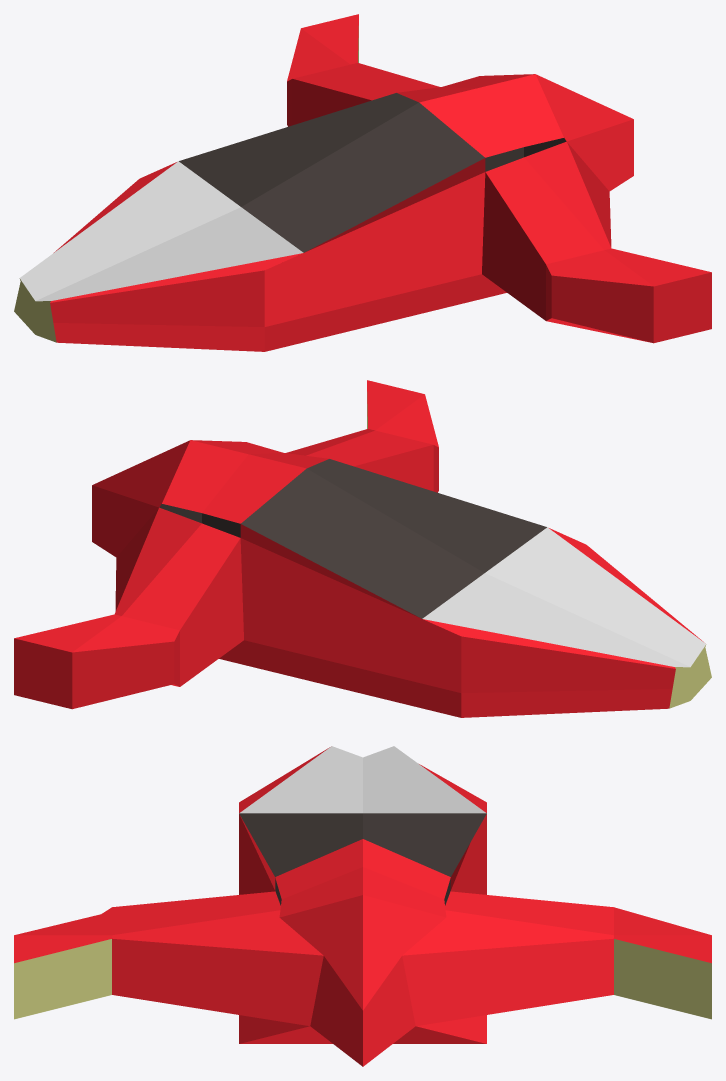
Rendered from ship2.glb.
3 renders of one model, top to bottom at view 1: azimuth 30°, elevation 25°; view 2: azimuth 150°, elevation 25°; view 3: azimuth 270°, elevation 25°, orthographic.
Parts seen in each view (by area): view 1: Cube; view 2: Cube; view 3: Cube.
Part boxes in pixels (<box>): Cube: <box>14,14,711,351</box>; Cube: <box>14,380,711,717</box>; Cube: <box>14,746,711,1066</box>.
Bounding box in the file's own units: 5.52 × 1.33 × 5.63.
